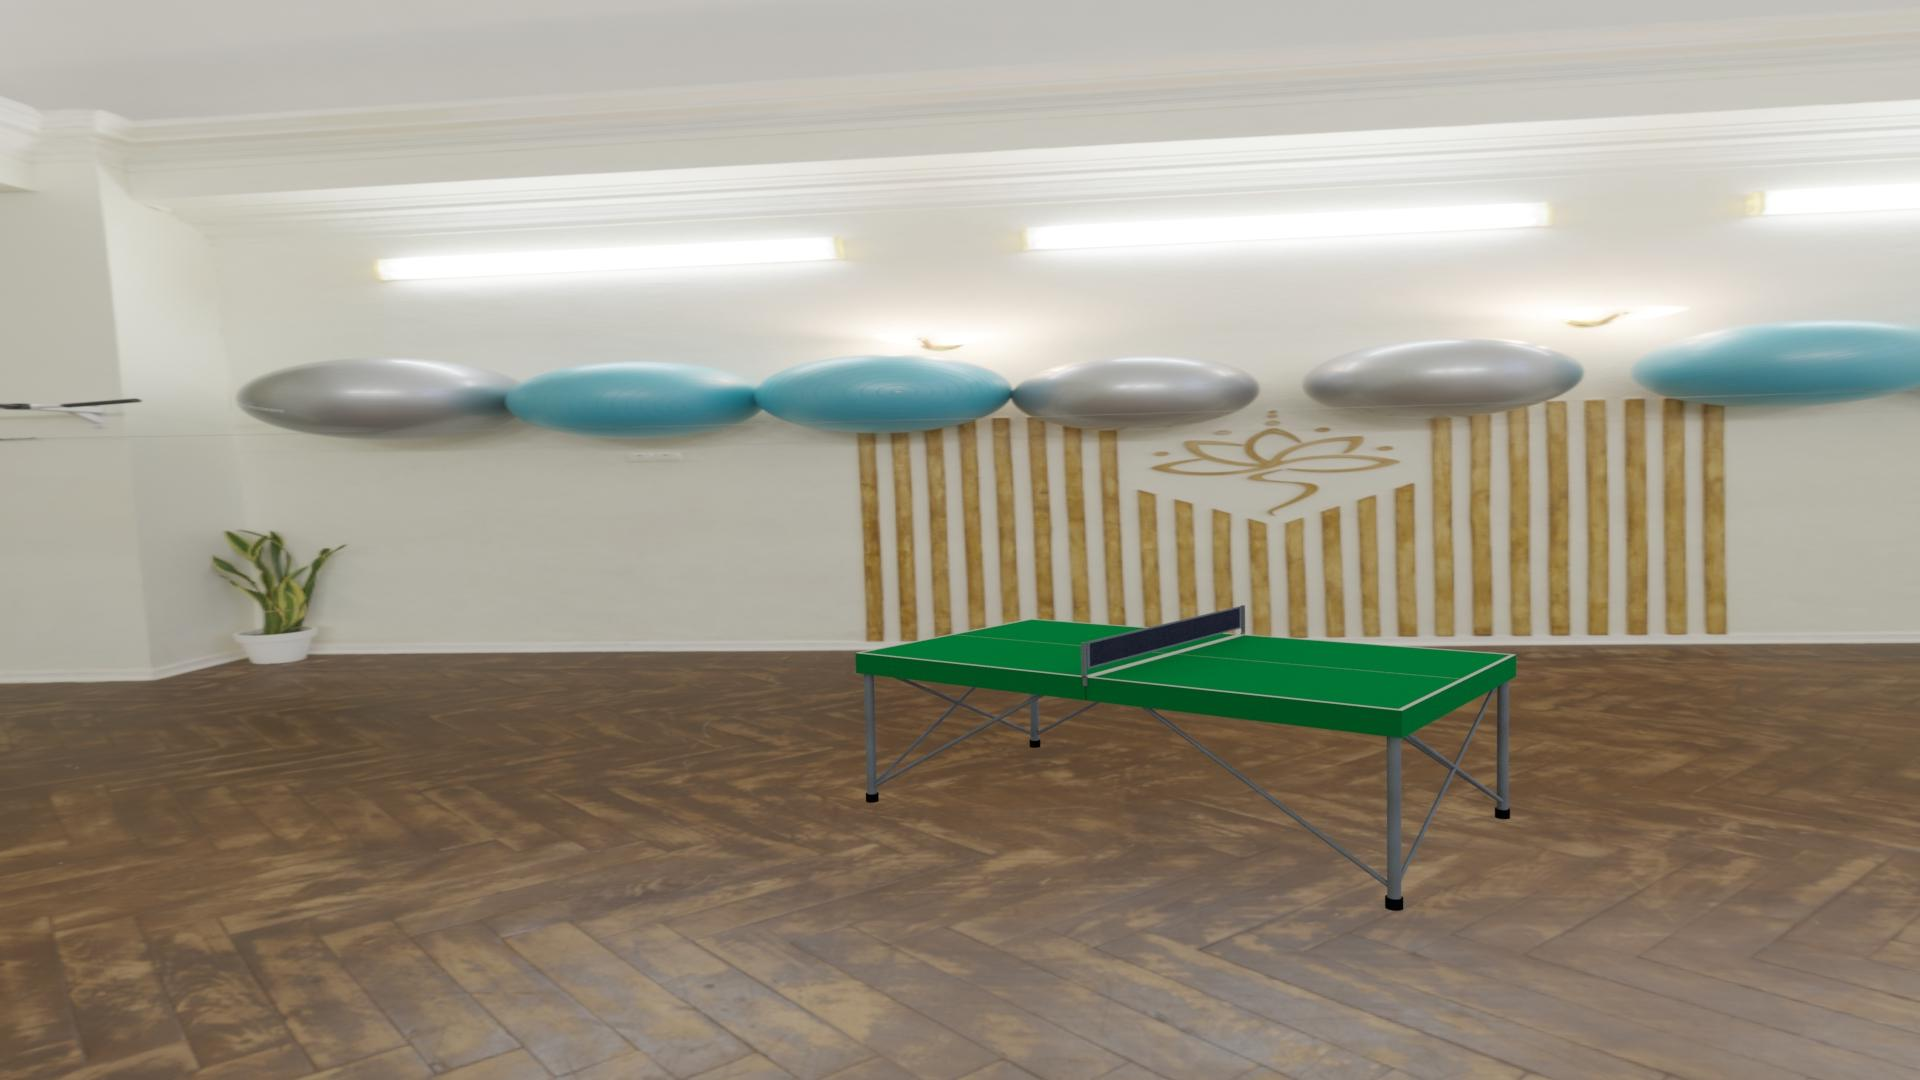table: (861, 620, 1510, 709)
